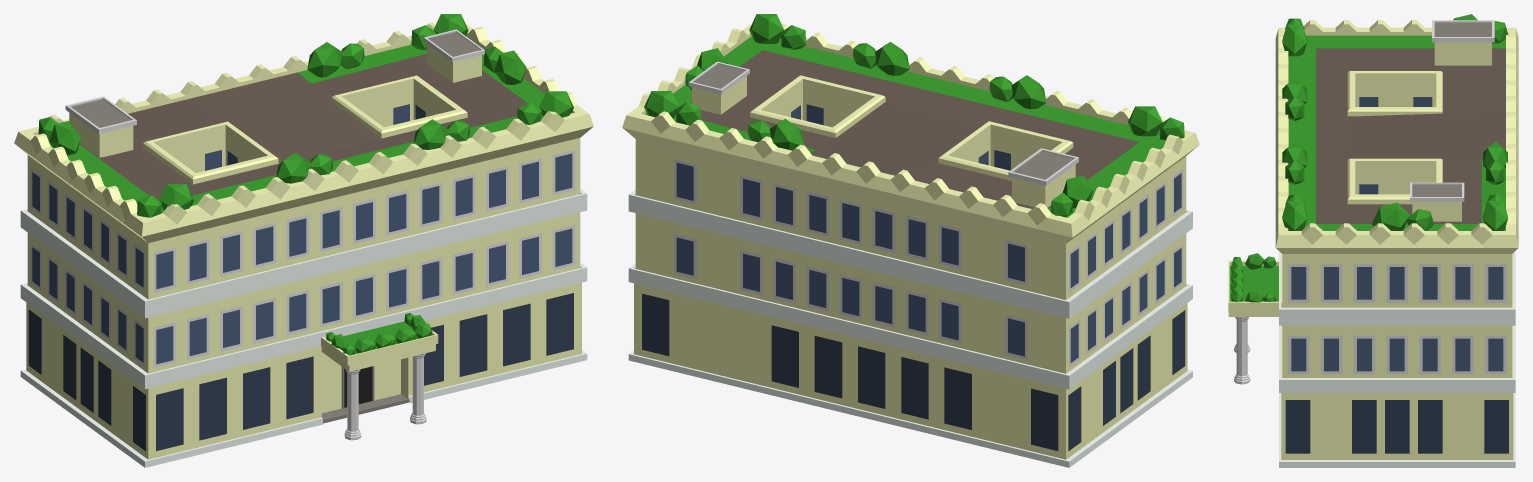
3 views of the same model, side by side, from view 1: azimuth 30°, elevation 25°; view 2: azimuth 150°, elevation 25°; view 3: azimuth 270°, elevation 25° (orthographic). The views are drawn at different scales.
Parts seen in each view (by area): view 1: Cube.002, Cube, Plane, Cube.001, Cube.003, Cube.005, Cube.006, Cylinder, Icosphere.011, Icosphere.008, Icosphere.007, Icosphere.009 (+5 smaller); view 2: Cube.002, Cube, Plane, Cube.001, Cube.003, Cube.005, Cube.006, Icosphere.010, Icosphere.008, Icosphere.009, Icosphere.007, Icosphere.011 (+3 smaller); view 3: Plane, Cube.002, Cube, Cube.001, Cube.003, Cube.005, Cube.006, Icosphere.014, Cylinder, Icosphere.009, Icosphere.008, Icosphere.011 (+5 smaller).
Part boxes in pixels (x1=…): Cube.002: x1=14, y1=22, x2=593, y2=299; Cube: x1=26, y1=282, x2=581, y2=459; Plane: x1=50, y1=37, x2=544, y2=213; Cube.001: x1=27, y1=212, x2=580, y2=373; Cube.003: x1=20, y1=189, x2=587, y2=467; Cube.005: x1=65, y1=96, x2=136, y2=157; Cube.006: x1=423, y1=29, x2=484, y2=82; Cylinder: x1=344, y1=353, x2=426, y2=440; Icosphere.011: x1=307, y1=42, x2=364, y2=77; Icosphere.008: x1=276, y1=152, x2=332, y2=183; Icosphere.007: x1=137, y1=184, x2=194, y2=217; Icosphere.009: x1=413, y1=119, x2=469, y2=149; Cube.002: x1=622, y1=24, x2=1199, y2=299; Cube: x1=634, y1=283, x2=1187, y2=459; Plane: x1=645, y1=36, x2=1165, y2=217; Cube.001: x1=635, y1=213, x2=1186, y2=373; Cube.003: x1=628, y1=190, x2=1192, y2=467; Cube.005: x1=1008, y1=148, x2=1078, y2=207; Cube.006: x1=688, y1=61, x2=749, y2=114; Icosphere.010: x1=749, y1=14, x2=806, y2=49; Icosphere.008: x1=989, y1=75, x2=1046, y2=109; Icosphere.009: x1=853, y1=42, x2=909, y2=75; Icosphere.007: x1=1127, y1=106, x2=1184, y2=140; Icosphere.011: x1=747, y1=119, x2=804, y2=150; Plane: x1=1288, y1=35, x2=1505, y2=230; Cube.002: x1=1275, y1=20, x2=1518, y2=307; Cube: x1=1228, y1=253, x2=1513, y2=459; Cube.001: x1=1282, y1=325, x2=1512, y2=377; Cube.003: x1=1279, y1=251, x2=1515, y2=467; Cube.005: x1=1432, y1=20, x2=1494, y2=65; Cube.006: x1=1410, y1=182, x2=1464, y2=221; Icosphere.014: x1=1372, y1=202, x2=1434, y2=230; Cylinder: x1=1234, y1=317, x2=1250, y2=384; Icosphere.009: x1=1282, y1=141, x2=1307, y2=184; Icosphere.008: x1=1282, y1=78, x2=1307, y2=120; Icosphere.011: x1=1483, y1=141, x2=1507, y2=184.
Size of the model in its own units: 6.27 by 3.6 by 3.67.
